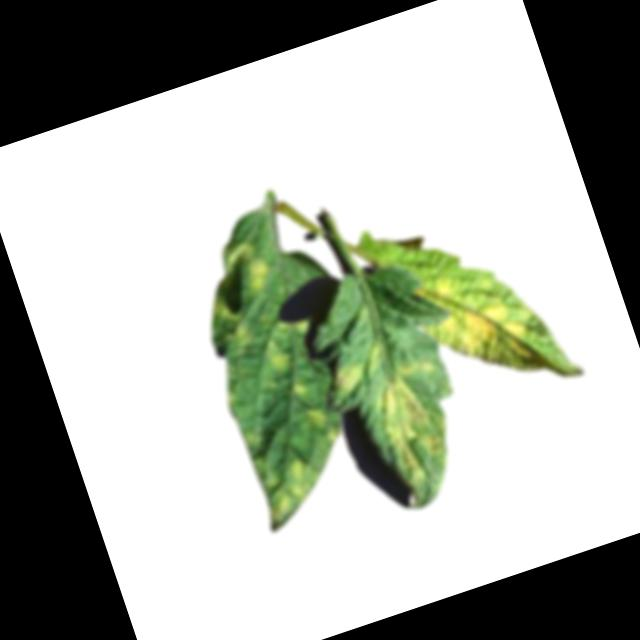Leaf_Mold: (410, 255, 542, 401), (365, 355, 469, 488), (247, 456, 329, 530), (212, 234, 272, 302), (206, 294, 253, 353), (326, 356, 369, 399), (303, 400, 340, 449), (258, 338, 295, 379)
